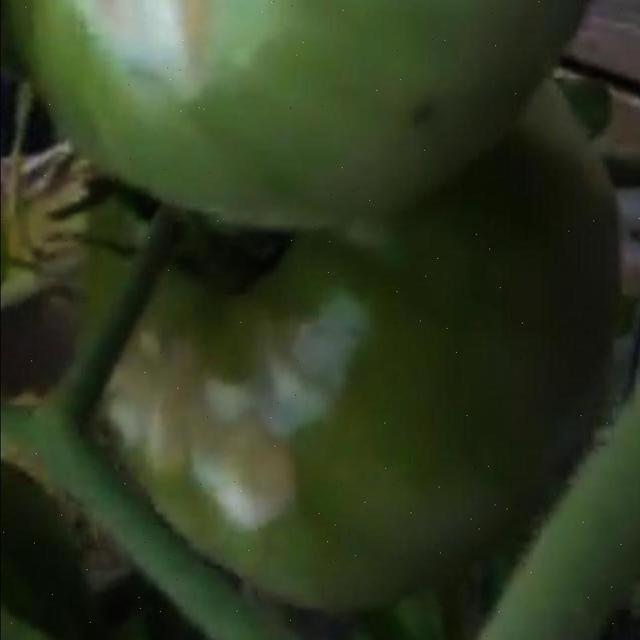Sunscald Fruit: (120, 36, 197, 267)
